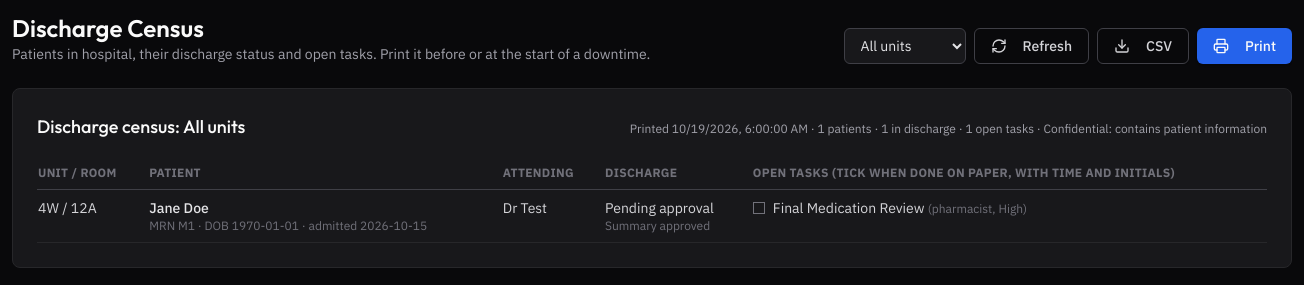
Test case: CensusView › shows each patient with discharge status and open tasks, and prints
Later steps or results of the test are not shown.
Expected: the table with test id "census-table" shows "Jane Doe", [149,199,209,217]
Expected: the table with test id "census-table" shows "Pending approval", [605,199,714,217]
Select "4W · 4 West" in the dropdown with test id "census-unit" at point(904, 46), box [844,28,966,64]
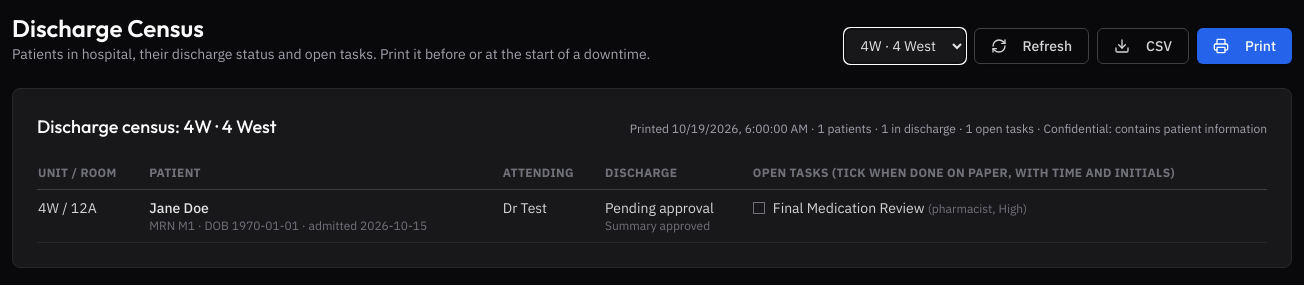
Result: the heading "Discharge census: 4W · 4 West" is shown at [37,113,277,141]
